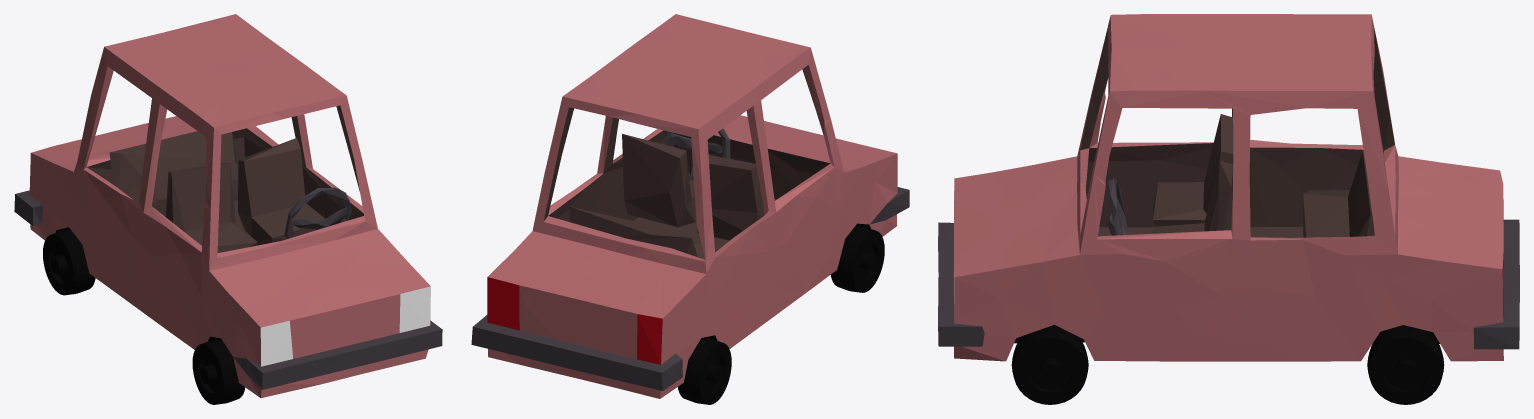
Rendered from car_merged.fbx.
3 renders of one model, left to right at view 1: azimuth 30°, elevation 25°; view 2: azimuth 150°, elevation 25°; view 3: azimuth 270°, elevation 25°, orthographic. The views are drawn at different scales.
Visible parts, largest first — view 1: car.merged; view 2: car.merged; view 3: car.merged.
Part boxes in pixels (x1,y1,x2,y2): car.merged: (14, 14, 442, 404); car.merged: (471, 14, 909, 404); car.merged: (938, 14, 1519, 404).
Size of the model in its own units: 2.37 by 2.81 by 4.98.
